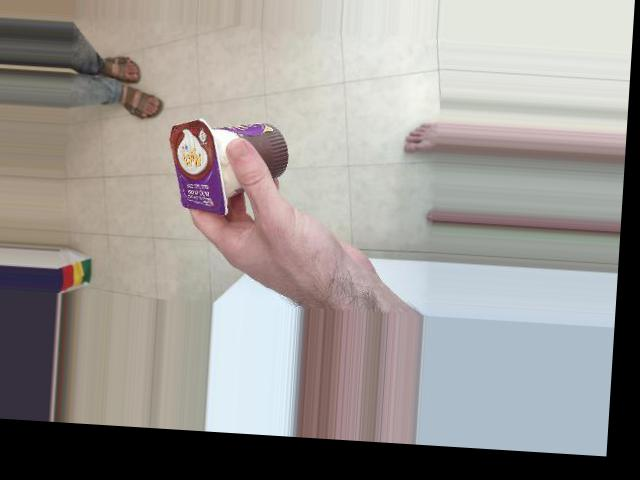milky: (157, 72, 252, 201)
